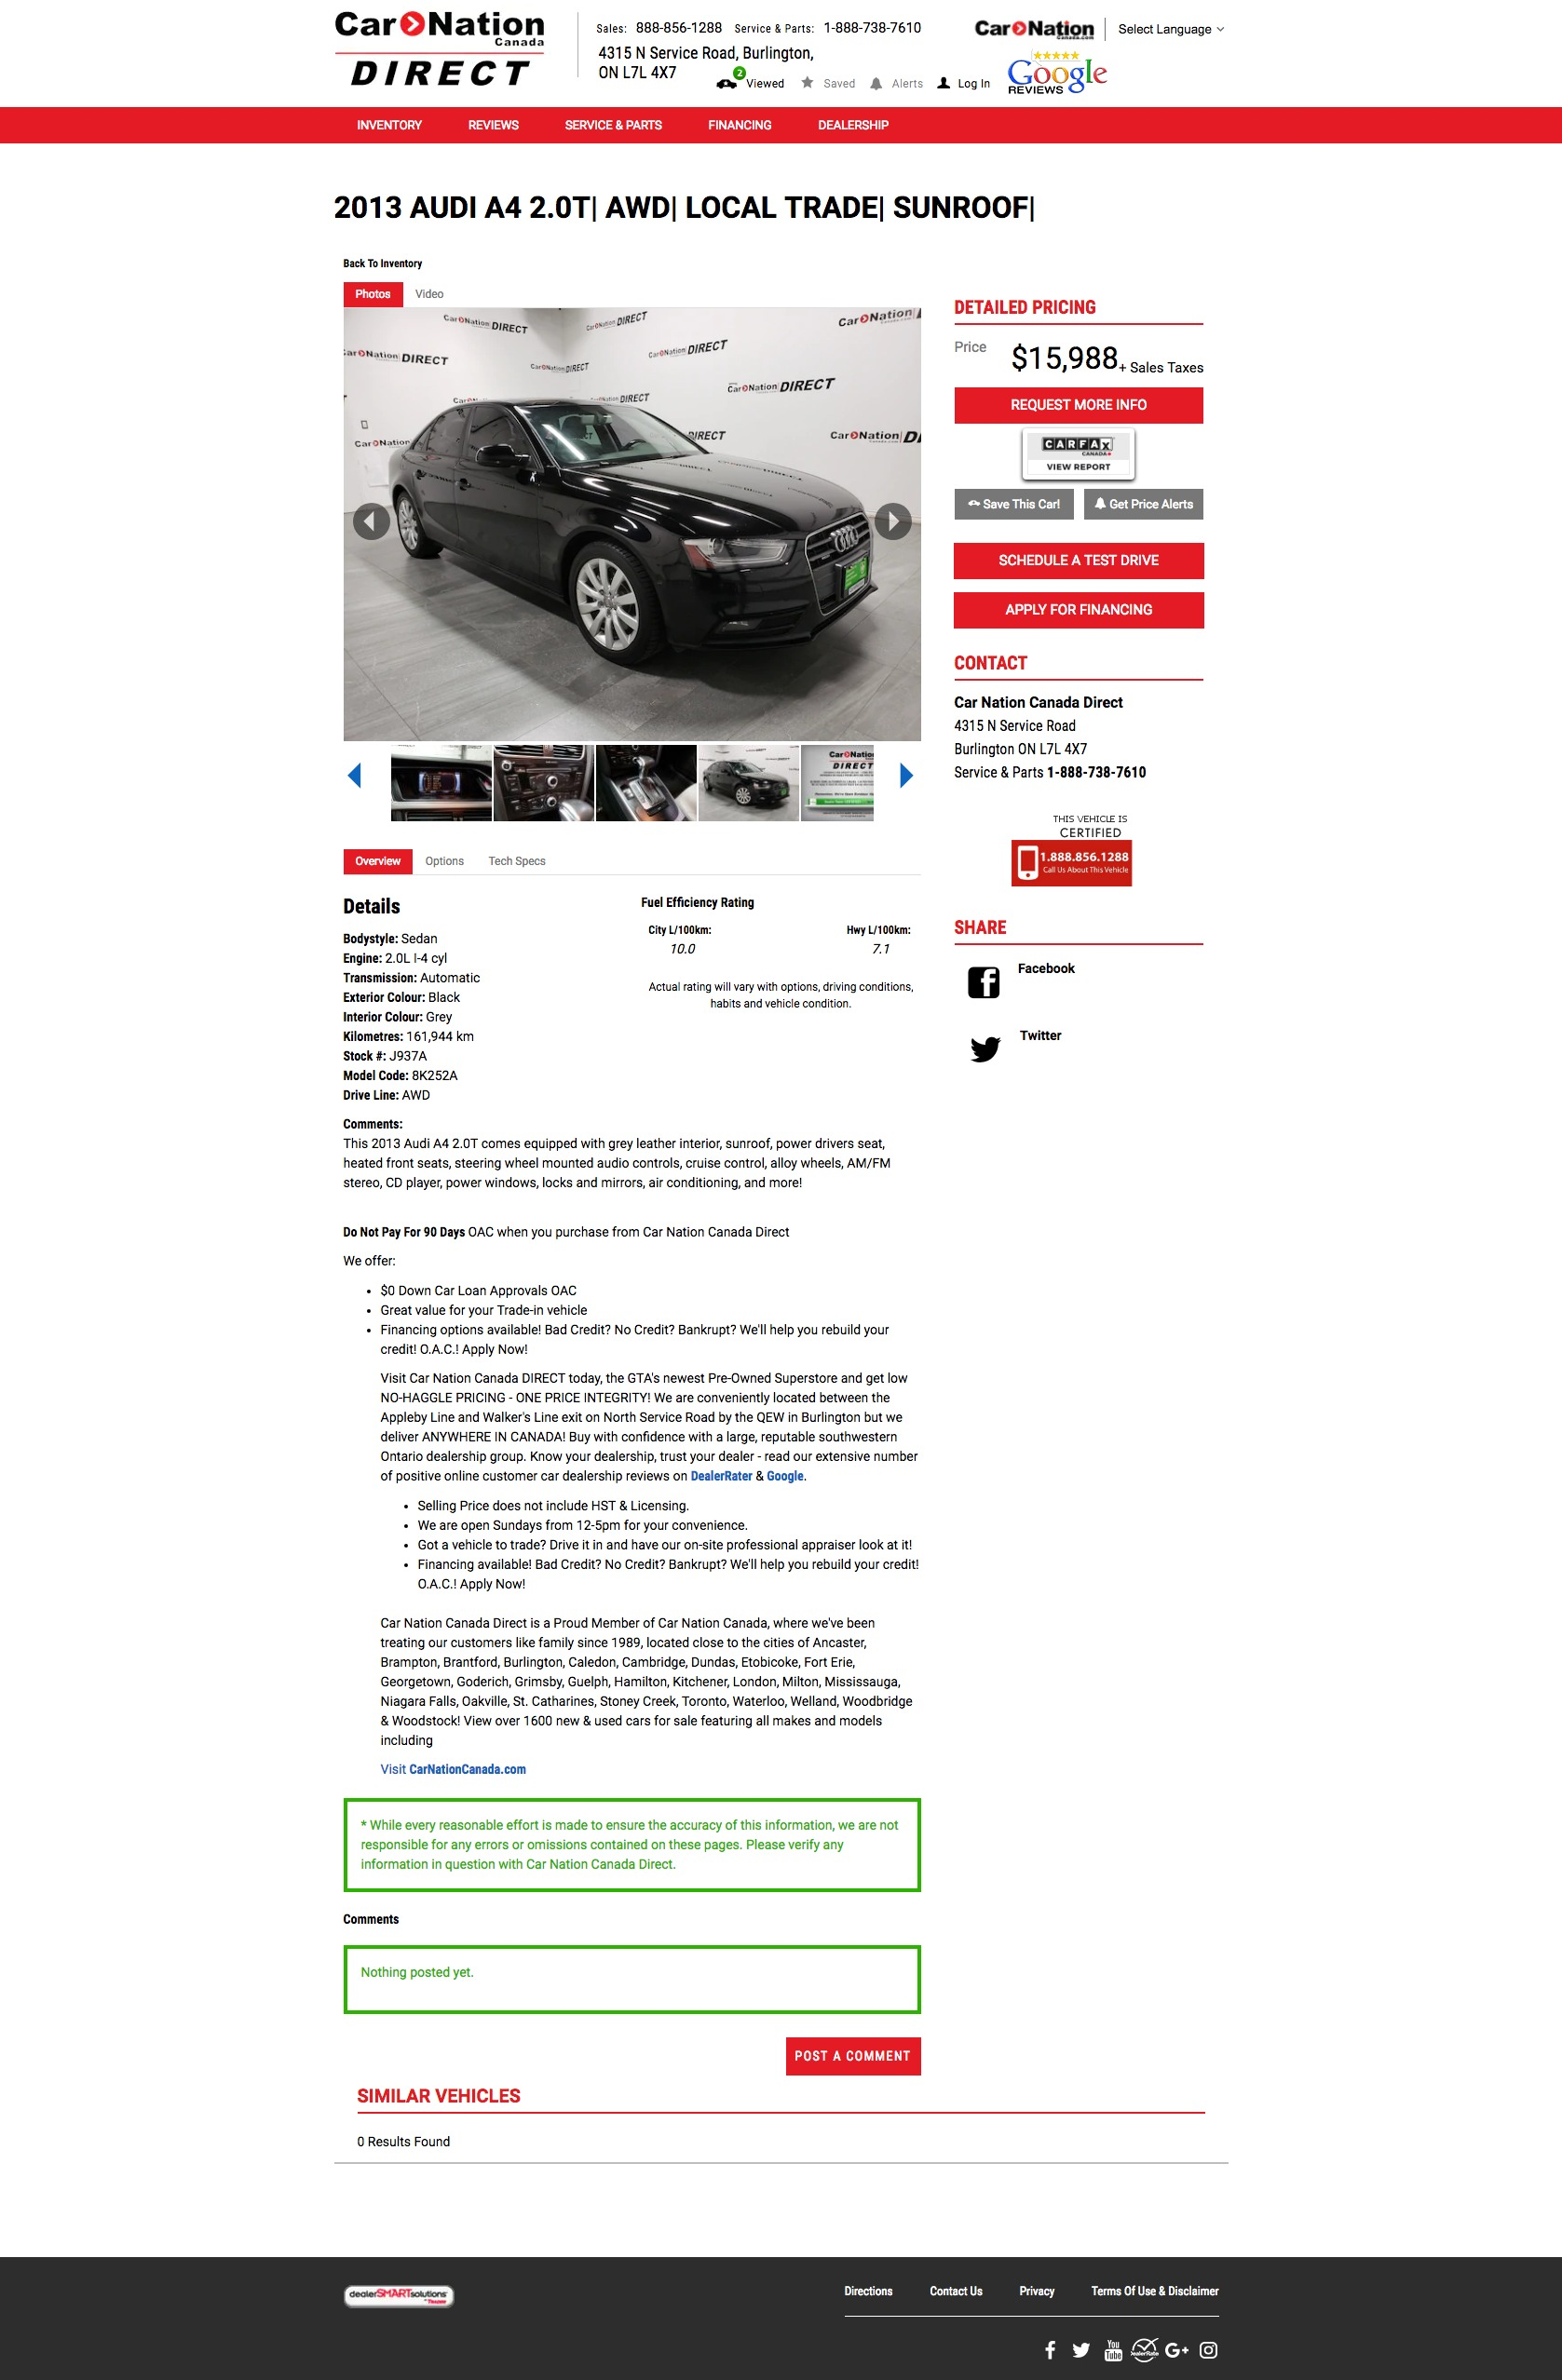car: (900, 761, 915, 791)
